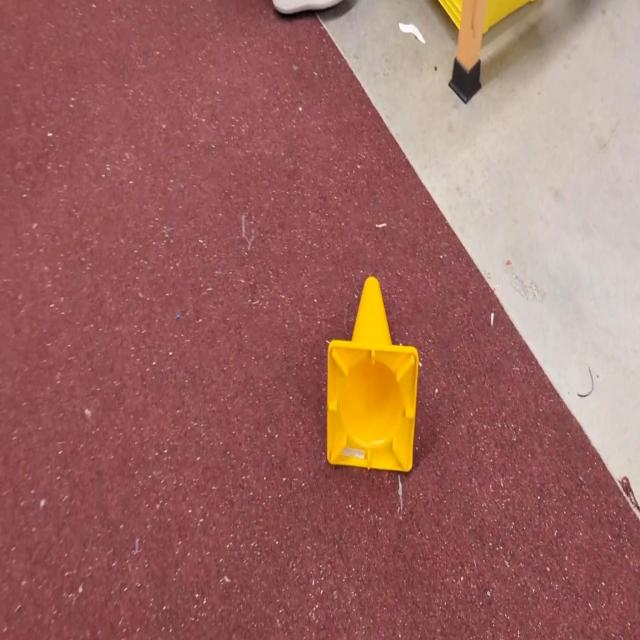frc_cone: (328, 275, 418, 473)
